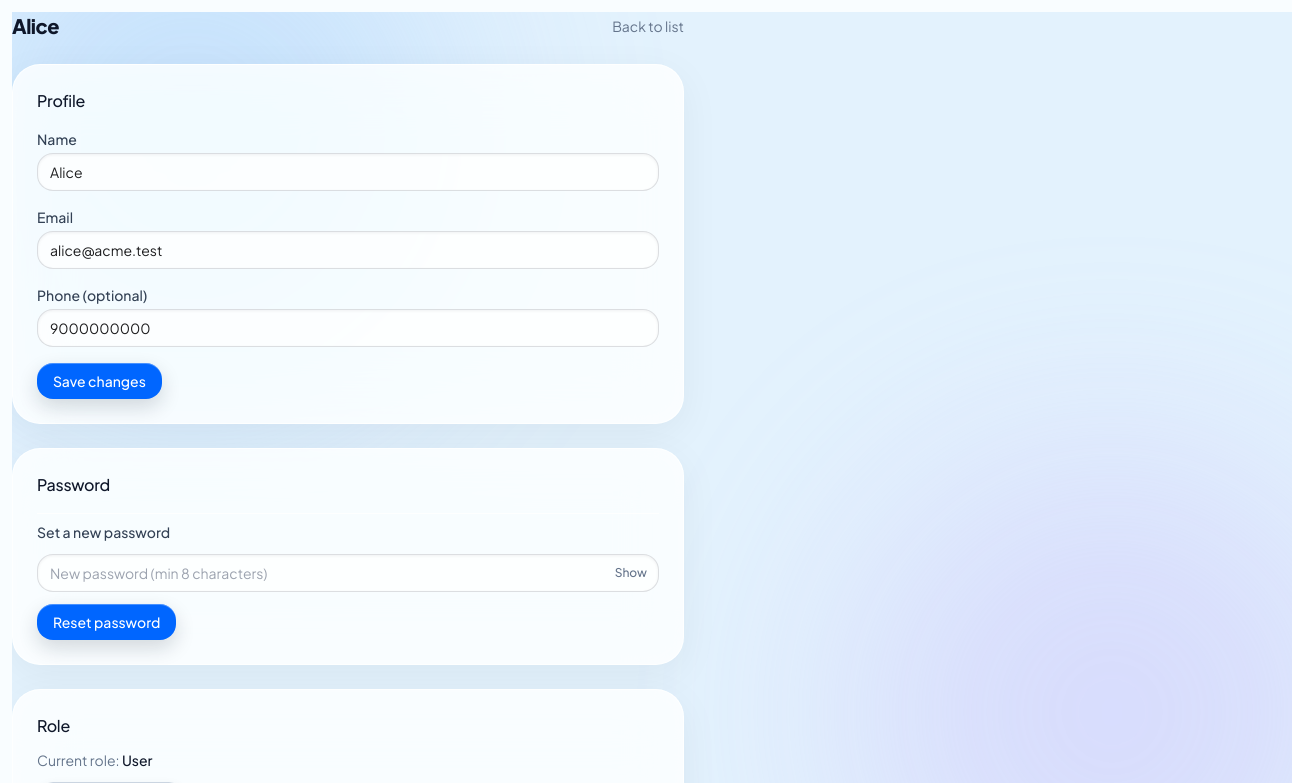
Test case: EditUserPage - Super Admin/Admin can reset an existing user's password › shows a server error instead of silently failing
Check: the heading "Alice" is shown, box top-left (12, 12), bottom-right (59, 40)
Step 1. Type "MyNewPass1" into the password field labelled "New password" → (348, 573), box top-left (37, 554), bottom-right (659, 592)
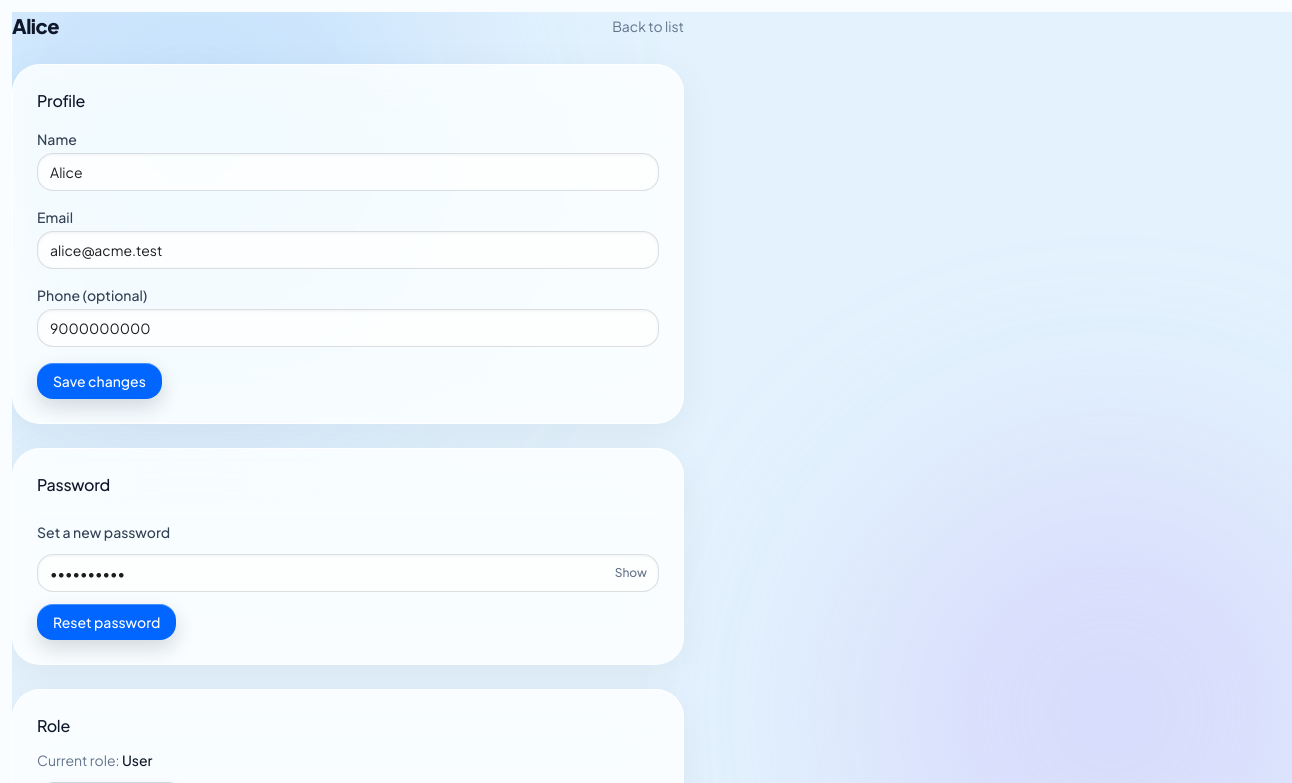
Step 2. Click the button "Reset password" → (107, 622), box top-left (37, 604), bottom-right (176, 640)
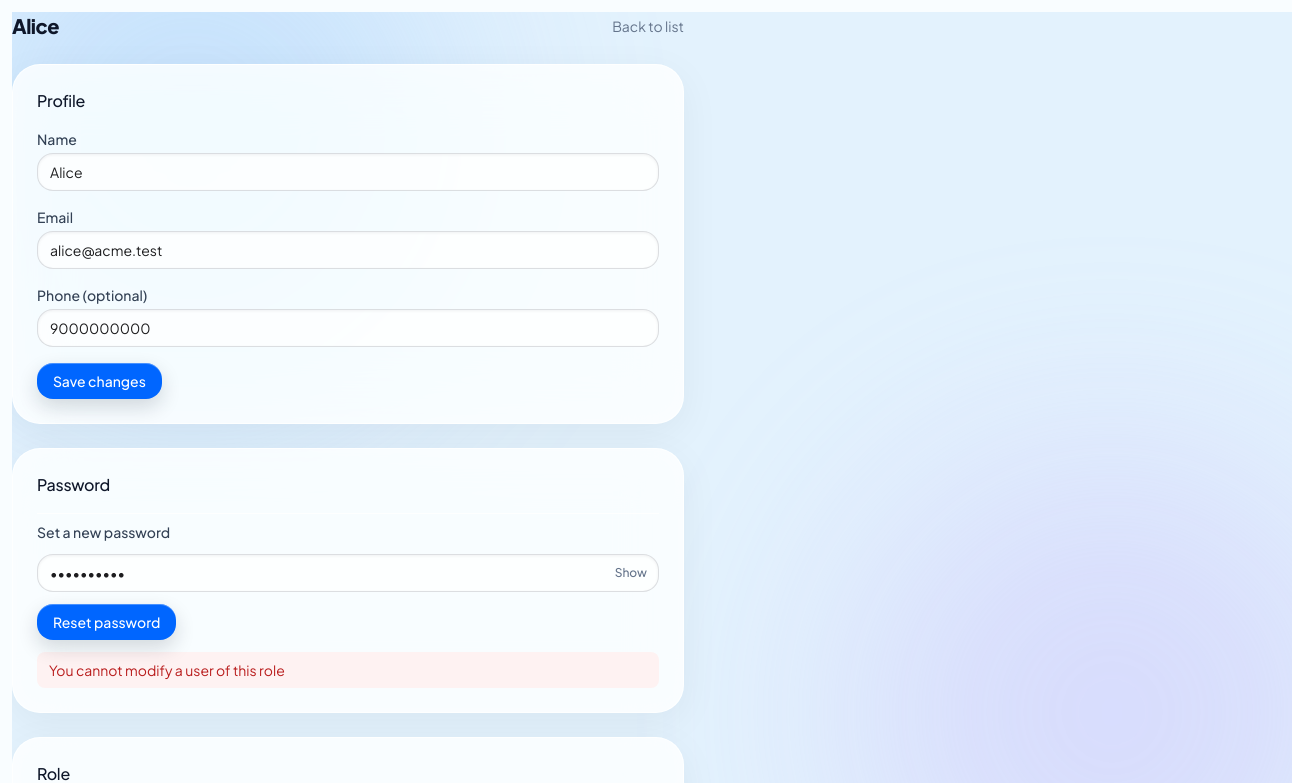
Check: the text "You cannot modify a user of this role" is shown, box top-left (37, 652), bottom-right (659, 688)
